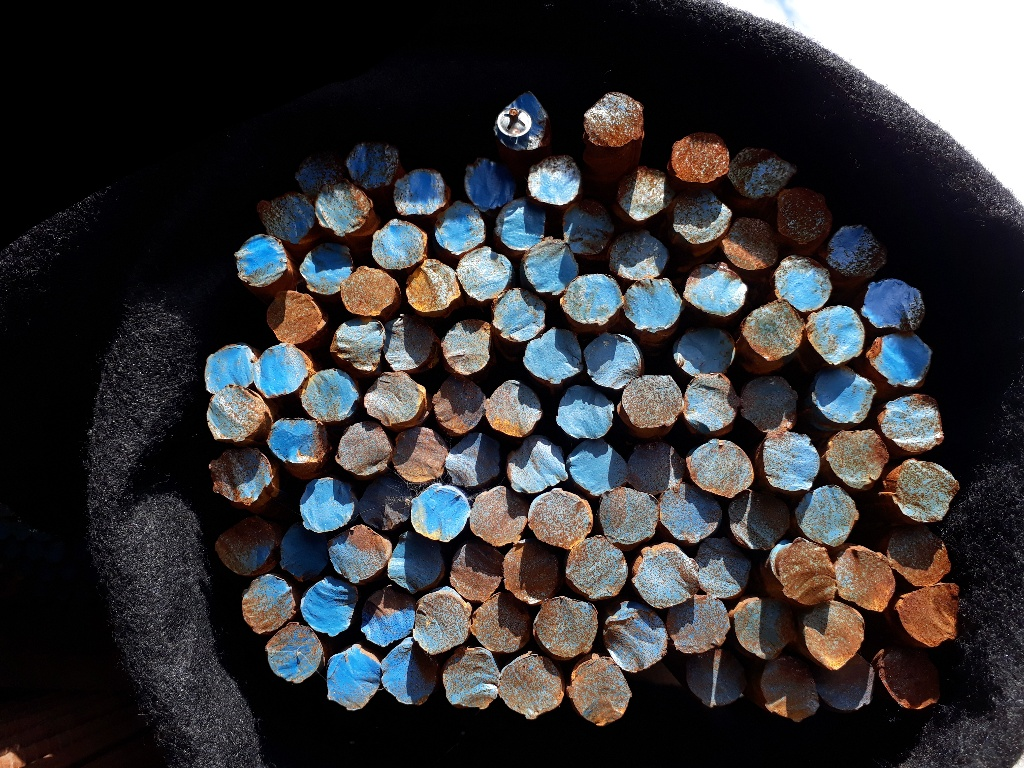dipstick: (832, 545, 897, 612), (500, 655, 565, 722), (803, 600, 867, 668), (569, 660, 632, 728), (895, 585, 961, 648), (687, 439, 756, 499), (535, 596, 600, 659), (734, 598, 797, 662), (207, 448, 275, 507), (606, 608, 666, 674), (876, 394, 944, 452), (324, 524, 393, 581), (895, 461, 958, 523), (522, 322, 584, 385), (565, 537, 629, 598), (825, 428, 888, 489), (740, 300, 802, 361), (889, 526, 952, 586), (798, 486, 858, 549), (410, 592, 470, 655), (265, 622, 324, 686), (381, 639, 439, 703), (865, 331, 932, 386), (491, 93, 553, 152), (878, 648, 940, 707), (501, 542, 560, 604), (214, 515, 276, 574), (635, 548, 698, 606), (666, 597, 732, 652), (326, 644, 381, 710), (661, 484, 721, 544), (472, 594, 531, 655), (861, 275, 924, 332), (805, 305, 864, 365), (761, 429, 819, 490), (530, 491, 591, 549), (204, 385, 265, 443), (728, 491, 791, 547), (484, 380, 543, 439), (774, 187, 832, 247), (761, 663, 821, 721), (300, 577, 357, 638), (684, 263, 747, 318), (584, 90, 644, 147), (672, 187, 732, 244), (687, 649, 747, 706), (505, 437, 565, 494), (597, 486, 659, 541), (696, 535, 750, 598), (773, 254, 832, 311), (740, 377, 799, 434), (525, 237, 580, 298), (445, 649, 500, 710), (365, 373, 426, 428), (624, 277, 683, 333), (622, 373, 682, 428), (558, 275, 621, 327), (445, 432, 502, 489), (385, 533, 441, 591), (411, 485, 469, 541), (828, 223, 887, 278), (813, 370, 874, 423), (720, 215, 776, 272), (558, 380, 613, 438), (380, 314, 435, 372), (683, 373, 735, 434), (241, 575, 297, 631), (628, 441, 685, 496), (402, 258, 460, 312), (729, 149, 795, 196), (584, 333, 639, 389), (818, 655, 872, 712), (456, 248, 513, 302), (328, 320, 385, 374), (564, 198, 617, 256), (568, 442, 626, 495), (299, 479, 355, 533), (233, 233, 289, 287), (335, 424, 392, 477), (267, 292, 324, 345), (301, 370, 359, 422), (672, 133, 731, 184), (267, 417, 328, 466), (617, 167, 672, 221), (431, 378, 486, 432), (782, 550, 835, 606), (297, 243, 353, 296), (675, 329, 735, 378), (493, 288, 548, 341), (339, 266, 396, 316), (363, 591, 416, 644), (394, 428, 446, 482), (442, 318, 491, 375), (372, 218, 425, 270), (435, 202, 486, 256), (317, 187, 372, 237), (610, 233, 667, 280), (255, 344, 306, 396), (464, 154, 513, 208), (260, 192, 315, 240), (206, 345, 257, 394), (528, 156, 580, 204), (359, 482, 412, 529), (496, 202, 547, 250), (347, 141, 398, 189), (393, 170, 446, 216), (283, 526, 325, 581), (295, 155, 345, 192)
